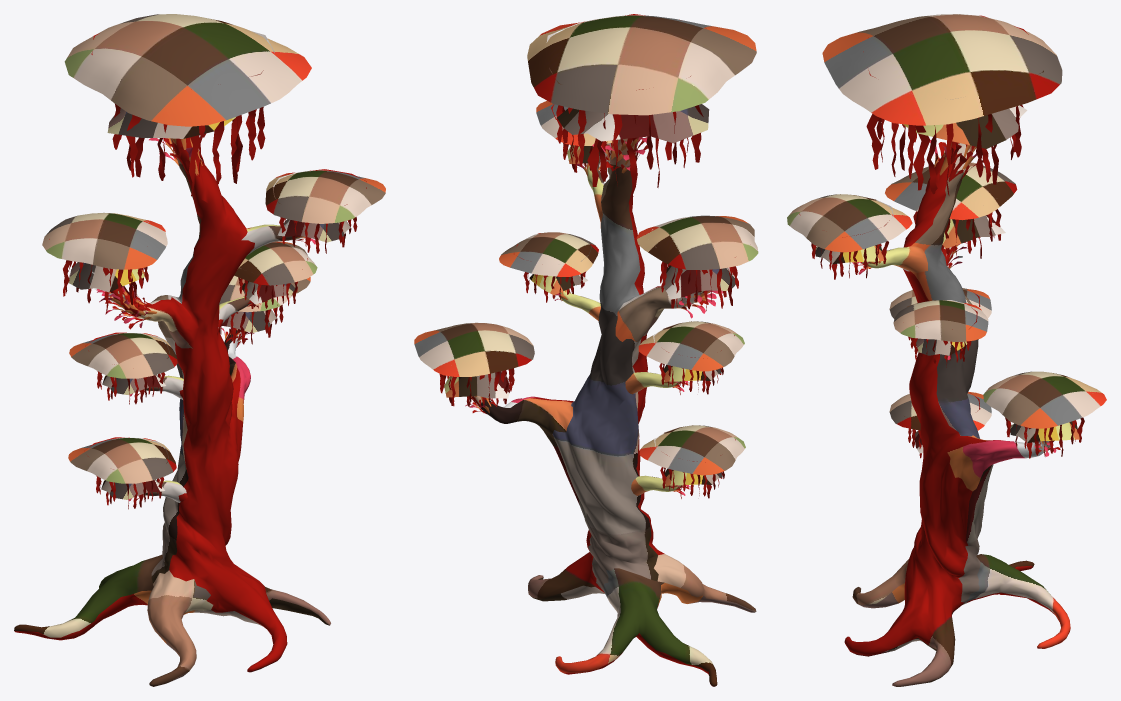
Rendered from jhay_tree3.glb.
3 renders of one model, left to right at view 1: azimuth 30°, elevation 25°; view 2: azimuth 150°, elevation 25°; view 3: azimuth 270°, elevation 25°, orthographic.
Parts seen in each view (by area): view 1: tree 3; view 2: tree 3; view 3: tree 3.
Part boxes in pixels (x1=…): tree 3: x1=14, y1=14, x2=385, y2=686; tree 3: x1=414, y1=14, x2=758, y2=686; tree 3: x1=787, y1=14, x2=1106, y2=686.
Size of the model in its own units: 3.2 by 6.28 by 3.01.
Materials: 2 (2 with a texture image).
